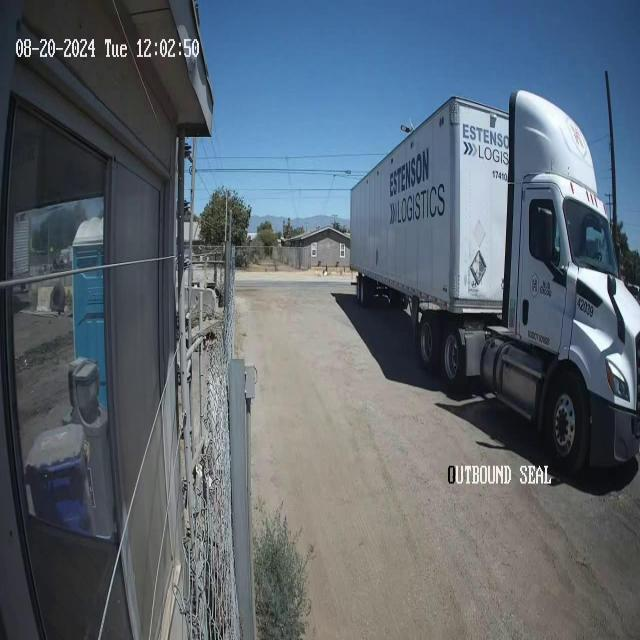TRUCK_IN: (349, 87, 639, 477)
